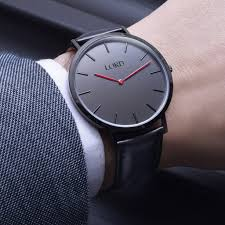clock: (74, 38, 170, 128)
